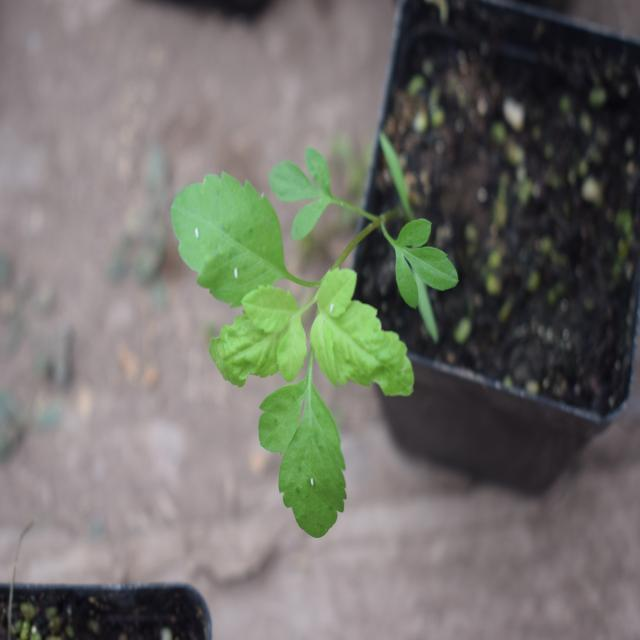Bidens pilosa: (162, 147, 444, 534)
